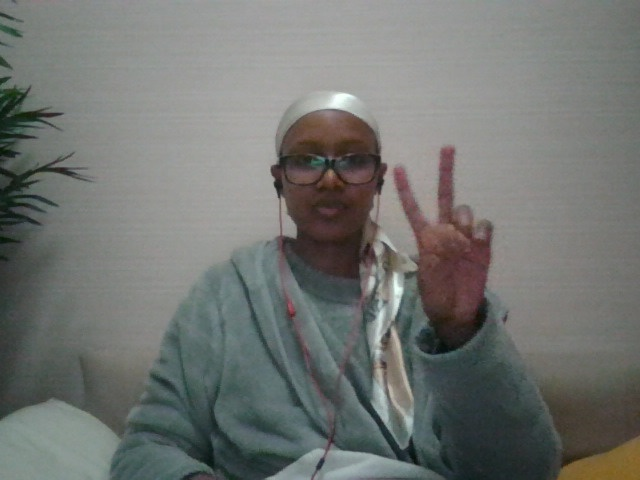peace: (390, 140, 511, 347)
